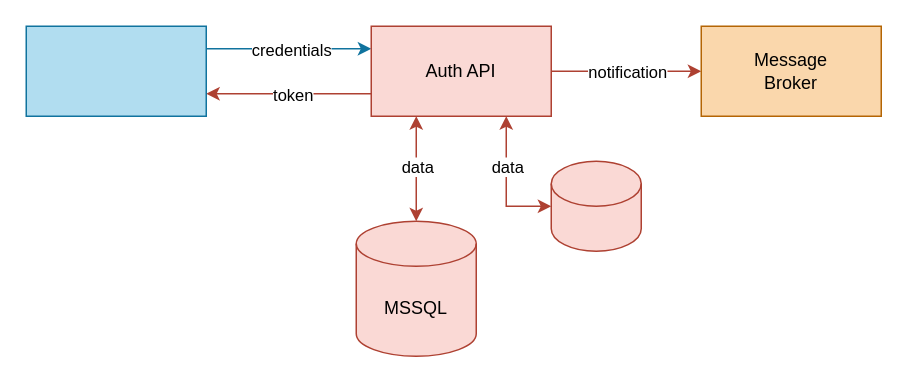
This 908x383 diagram has some shape labels left out. The centre of each missing label's shape, as x and y in pixels:
client / user: the point at 115,70
Redis: the point at 595,205
